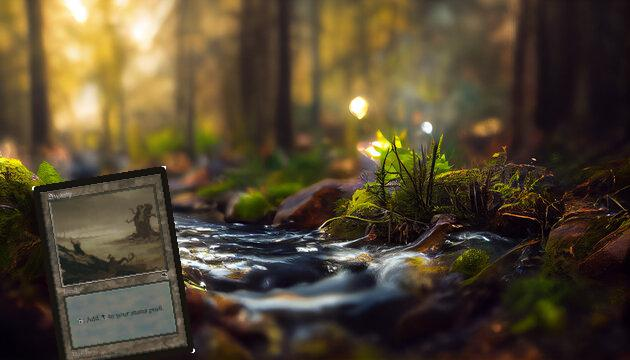mtgCard: (32, 165, 195, 360)
